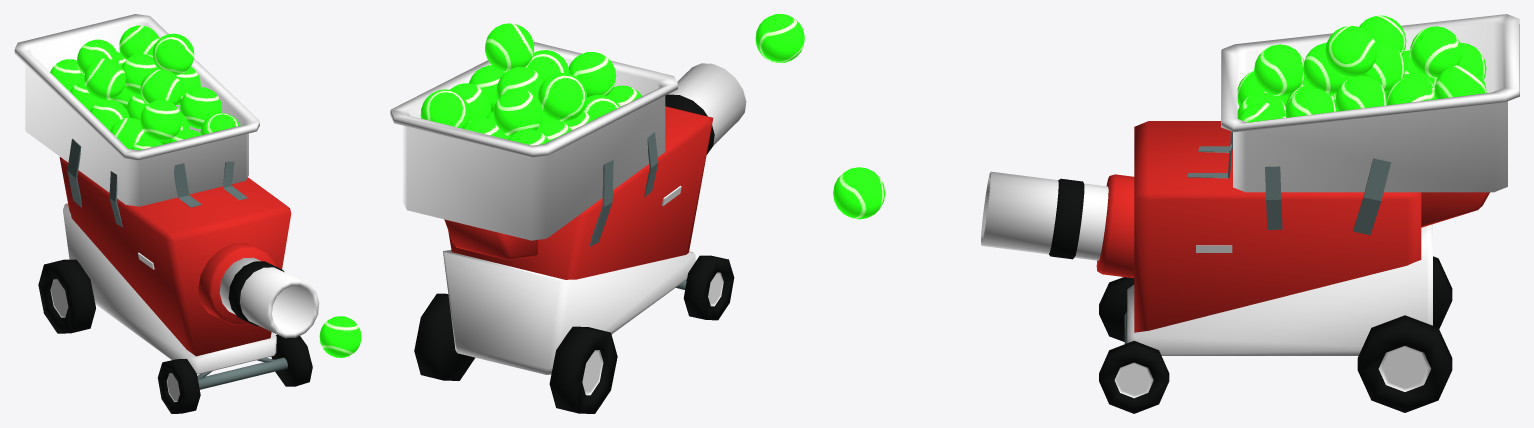
File: tennis_machine_with_balls_low_poly.glb
3 views of the same model, side by side, from view 1: azimuth 30°, elevation 25°; view 2: azimuth 150°, elevation 25°; view 3: azimuth 270°, elevation 25° (orthographic). The views are drawn at different scales.
Parts seen in each view (by area): view 1: Material_001-material (×3), Material-material (×2), Material_004-material (×16), Material_003-material (×4), Cube.002, Material_002-material (×5); view 2: Material_001-material (×4), Cube.002, Material-material (×2), Material_004-material (×15), Material_003-material (×4), Material_002-material (×2); view 3: Material-material (×3), Material_001-material (×4), Material_004-material (×12), Cube.002, Material_003-material (×5), Material_002-material (×2).
Part boxes in pixels (x1,y1,x2,y2): Material_001-material (×3): [14, 14, 319, 338]; Material-material (×2): [59, 157, 291, 356]; Material_004-material (×16): [50, 25, 361, 357]; Material_003-material (×4): [38, 259, 312, 413]; Cube.002: [63, 203, 276, 374]; Material_002-material (×5): [67, 138, 287, 389]; Material_001-material (×4): [390, 42, 746, 395]; Cube.002: [443, 250, 695, 374]; Material-material (×2): [444, 106, 713, 279]; Material_004-material (×15): [420, 14, 804, 145]; Material_003-material (×4): [414, 94, 734, 413]; Material_002-material (×2): [589, 132, 658, 246]; Material-material (×3): [1096, 121, 1489, 332]; Material_001-material (×4): [980, 14, 1519, 398]; Material_004-material (×12): [833, 15, 1486, 219]; Cube.002: [1127, 224, 1432, 355]; Material_003-material (×5): [1049, 178, 1452, 413]; Material_002-material (×2): [1265, 158, 1391, 235].
Size of the model in its own units: 1.6 by 3.29 by 5.63.
Materials: 6 (1 with a texture image).
